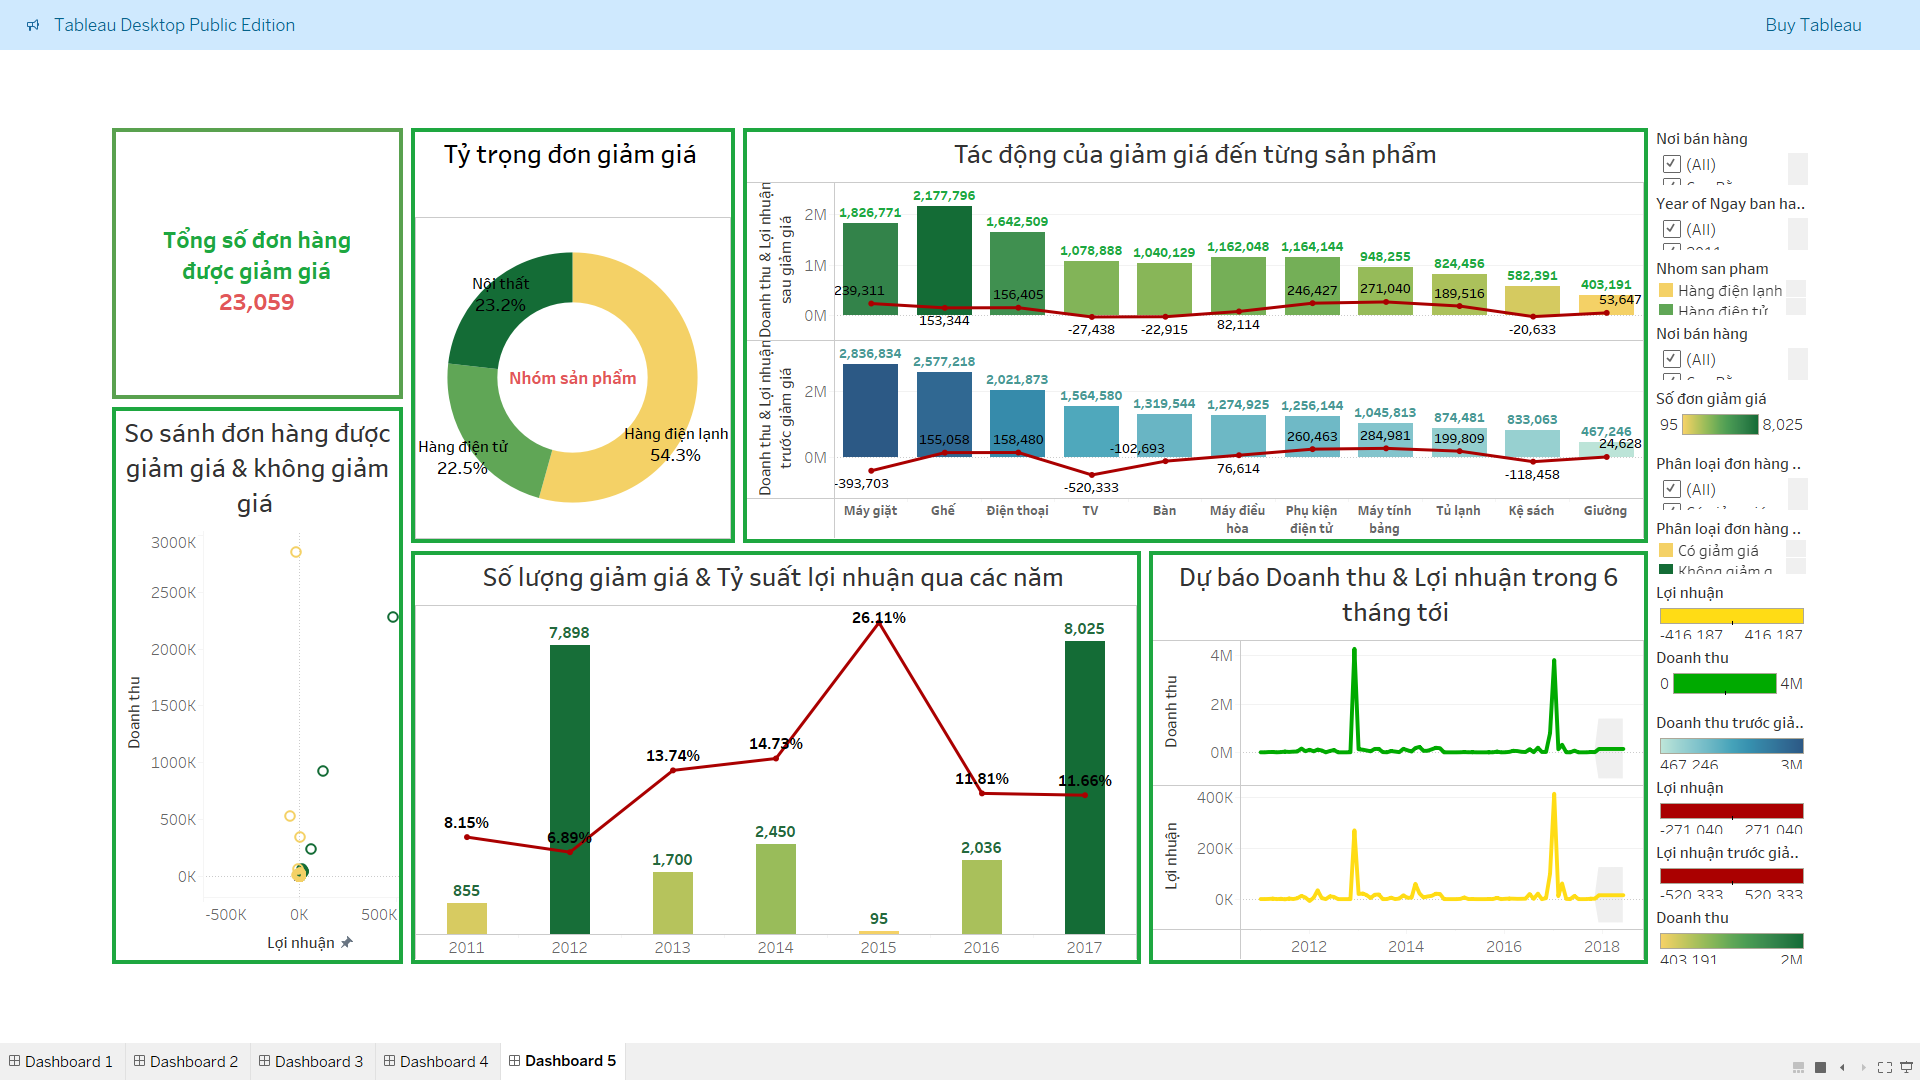

The dashboard page shown, as its layout file describes it:
{"tool":"tableau","page":{"name":"Dashboard 5","canvas":[1000,1000],"units":"permille","ordinal":4},"visuals":[{"type":"worksheet","title":"Tổng số đơn hàng được giảm giá","mark":"Automatic","box":[4.7,10.2,173.8,323.7]},{"type":"worksheet","title":"DB5: Tỷ trọng đơn hàng được giảm giá theo nhóm sản phẩm","mark":"Pie","rows":["Calculation_661466256509456387","Calculation_661466256509456387"],"box":[178.5,10.2,193,490.4]},{"type":"worksheet","title":"DB 5: Giảm giá sản phẩm","mark":"Line","rows":["Doanh thu","Loi nhuan","Calculation_821625518520307716","Calculation_821625518522511365"],"cols":["Ten san pham"],"box":[371.5,10.2,530.8,490.4]},{"type":"filter","title":"DB5: Tỷ trọng đơn hàng được giảm giá theo nhóm sản phẩm","param":"[federated.1sq9p5i18wjn6t1e2qz7n0ca84ti].[none:Noi ban hang:nk]","box":[902.3,10.2,93,75.3]},{"type":"filter","title":"DB5: Tỷ trọng đơn hàng được giảm giá theo nhóm sản phẩm","param":"[federated.1sq9p5i18wjn6t1e2qz7n0ca84ti].[yr:Ngay ban hang:ok]","box":[902.3,85.6,93,75.3]},{"type":"legend","title":"DB5: Tỷ trọng đơn hàng được giảm giá theo nhóm sản phẩm","param":"[federated.1sq9p5i18wjn6t1e2qz7n0ca84ti].[none:Nhom san pham:nk]","box":[902.3,160.9,93,75.3]},{"type":"filter","title":"DB5: Số lượng giảm giá và tỉ suất lợi nhuận","param":"[federated.1sq9p5i18wjn6t1e2qz7n0ca84ti].[none:Noi ban hang:nk]","box":[902.3,236.3,93,75.3]},{"type":"legend","title":"DB5: Số lượng giảm giá và tỉ suất lợi nhuận","param":"[federated.1sq9p5i18wjn6t1e2qz7n0ca84ti].[sum:Calculation_661466256501964800:qk]","box":[902.3,311.6,93,75.3]},{"type":"worksheet","title":"DB5: So sánh đơn hàng giảm giá và không giảm giá","mark":"Automatic","rows":["Doanh thu"],"cols":["Loi nhuan"],"box":[4.7,333.9,173.8,655.8]},{"type":"filter","title":"DB5: So sánh đơn hàng giảm giá và không giảm giá","param":"[federated.1sq9p5i18wjn6t1e2qz7n0ca84ti].[none:Calculation_661466256517599237:nk","box":[902.3,386.9,93,75.3]},{"type":"legend","title":"DB5: So sánh đơn hàng giảm giá và không giảm giá","param":"[federated.1sq9p5i18wjn6t1e2qz7n0ca84ti].[none:Calculation_661466256517599237:nk","box":[902.3,462.3,93,75.3]},{"type":"worksheet","title":"DB5: Số lượng giảm giá và tỉ suất lợi nhuận","mark":"Automatic","rows":["Calculation_661466256501964800","Calculation_661466256504778753"],"cols":["Ngay ban hang"],"box":[178.5,500.7,429.2,489.1]},{"type":"worksheet","title":"DB 5: Dự báo","mark":"Automatic","rows":["Doanh thu","Loi nhuan"],"cols":["Ngay ban hang"],"box":[607.7,500.7,294.7,489.1]},{"type":"legend","title":"DB 5: Dự báo","param":"[federated.1sq9p5i18wjn6t1e2qz7n0ca84ti].[fVal:sum:Loi nhuan:qk]","box":[902.3,537.6,93,75.3]},{"type":"legend","title":"DB 5: Dự báo","param":"[federated.1sq9p5i18wjn6t1e2qz7n0ca84ti].[fVal:sum:Doanh thu:qk]","box":[902.3,613,93,75.3]},{"type":"legend","title":"DB 5: Giảm giá sản phẩm","param":"[federated.1sq9p5i18wjn6t1e2qz7n0ca84ti].[sum:Calculation_821625518520307716:qk]","box":[902.3,688.3,93,75.3]},{"type":"legend","title":"DB 5: Giảm giá sản phẩm","param":"[federated.1sq9p5i18wjn6t1e2qz7n0ca84ti].[sum:Loi nhuan:qk]","box":[902.3,763.6,93,75.3]},{"type":"legend","title":"DB 5: Giảm giá sản phẩm","param":"[federated.1sq9p5i18wjn6t1e2qz7n0ca84ti].[sum:Calculation_821625518522511365:qk]","box":[902.3,839,93,75.3]},{"type":"legend","title":"DB 5: Giảm giá sản phẩm","param":"[federated.1sq9p5i18wjn6t1e2qz7n0ca84ti].[sum:Doanh thu:qk]","box":[902.3,914.3,93,75.4]}]}

Visuals, with their boxes on the dashboard's canvas, which has no fixed pixel size, in thousandths of its width and height (x1, y1, x2, y2). These are canvas units, not pixel positions in the 1920x1080 screenshot, which may show the page scaled, cropped or inside an application window:
"Tổng số đơn hàng được giảm giá" worksheet: crop(5, 10, 178, 334)
"DB5: Tỷ trọng đơn hàng được giảm giá theo nhóm sản phẩm" worksheet (Pie marks): crop(178, 10, 372, 501)
"DB 5: Giảm giá sản phẩm" worksheet (Line marks): crop(372, 10, 902, 501)
"DB5: Tỷ trọng đơn hàng được giảm giá theo nhóm sản phẩm" filter: crop(902, 10, 995, 86)
"DB5: Tỷ trọng đơn hàng được giảm giá theo nhóm sản phẩm" filter: crop(902, 86, 995, 161)
"DB5: Tỷ trọng đơn hàng được giảm giá theo nhóm sản phẩm" legend: crop(902, 161, 995, 236)
"DB5: Số lượng giảm giá và tỉ suất lợi nhuận" filter: crop(902, 236, 995, 312)
"DB5: Số lượng giảm giá và tỉ suất lợi nhuận" legend: crop(902, 312, 995, 387)
"DB5: So sánh đơn hàng giảm giá và không giảm giá" worksheet: crop(5, 334, 178, 990)
"DB5: So sánh đơn hàng giảm giá và không giảm giá" filter: crop(902, 387, 995, 462)
"DB5: So sánh đơn hàng giảm giá và không giảm giá" legend: crop(902, 462, 995, 538)
"DB5: Số lượng giảm giá và tỉ suất lợi nhuận" worksheet: crop(178, 501, 608, 990)
"DB 5: Dự báo" worksheet: crop(608, 501, 902, 990)
"DB 5: Dự báo" legend: crop(902, 538, 995, 613)
"DB 5: Dự báo" legend: crop(902, 613, 995, 688)
"DB 5: Giảm giá sản phẩm" legend: crop(902, 688, 995, 764)
"DB 5: Giảm giá sản phẩm" legend: crop(902, 764, 995, 839)
"DB 5: Giảm giá sản phẩm" legend: crop(902, 839, 995, 914)
"DB 5: Giảm giá sản phẩm" legend: crop(902, 914, 995, 990)
